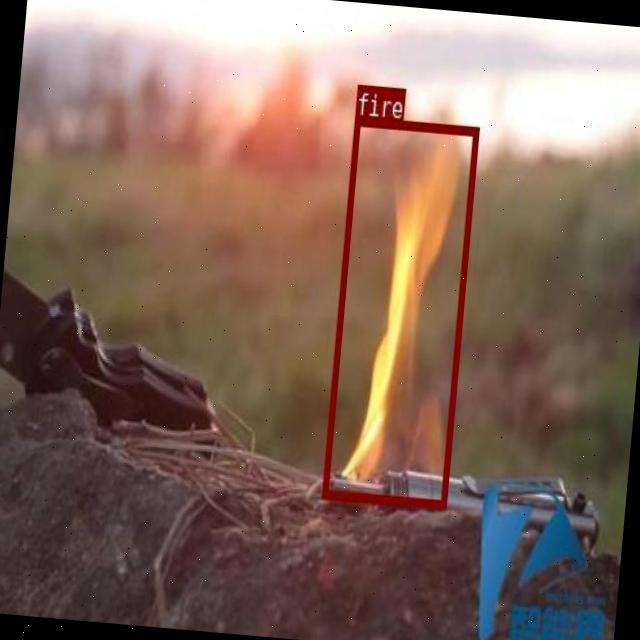fire: (321, 116, 478, 506)
